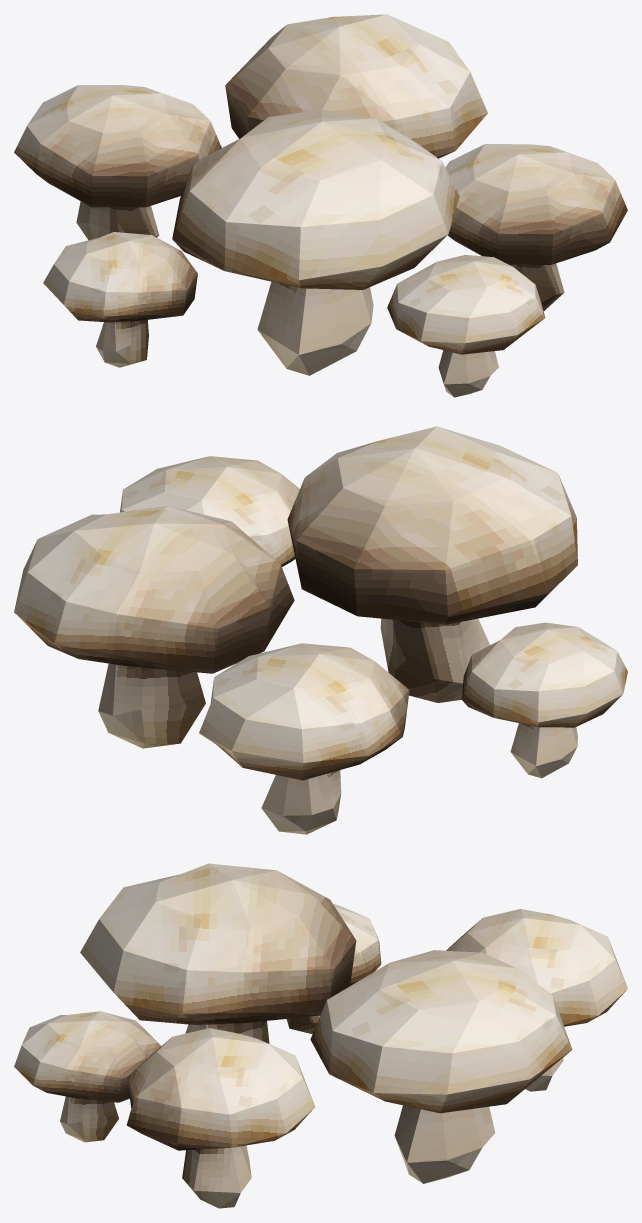
File: pile-shroom.glb
The picture shows the model from 3 angles, top to bottom: view 1: azimuth 30°, elevation 25°; view 2: azimuth 150°, elevation 25°; view 3: azimuth 270°, elevation 25°; orthographic projection. The views are drawn at different scales.
Visible parts, largest first — view 1: pile-shroom; view 2: pile-shroom; view 3: pile-shroom.
Part boxes in pixels (x1,y1,x2,y2): pile-shroom: [14, 14, 627, 397]; pile-shroom: [14, 426, 627, 834]; pile-shroom: [14, 863, 627, 1208].
Size of the model in its own units: 0.5053 by 0.2256 by 0.5472.
Materials: 1 (1 with a texture image).
